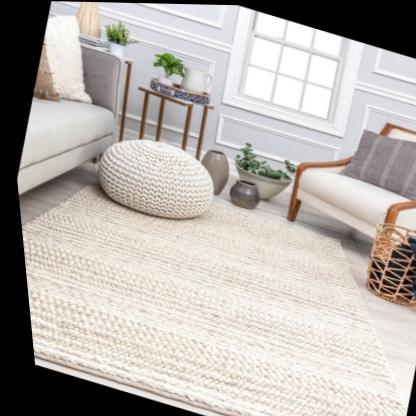Carpet: (17, 167, 398, 416)
